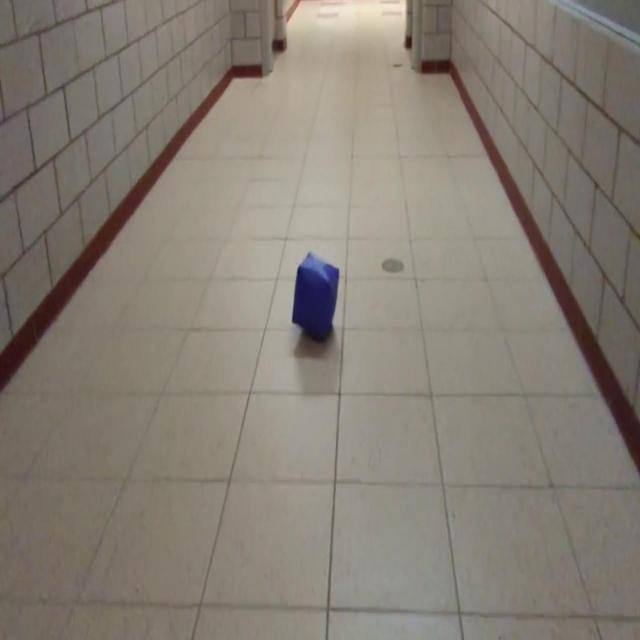frc_cube: (292, 254, 340, 342)
